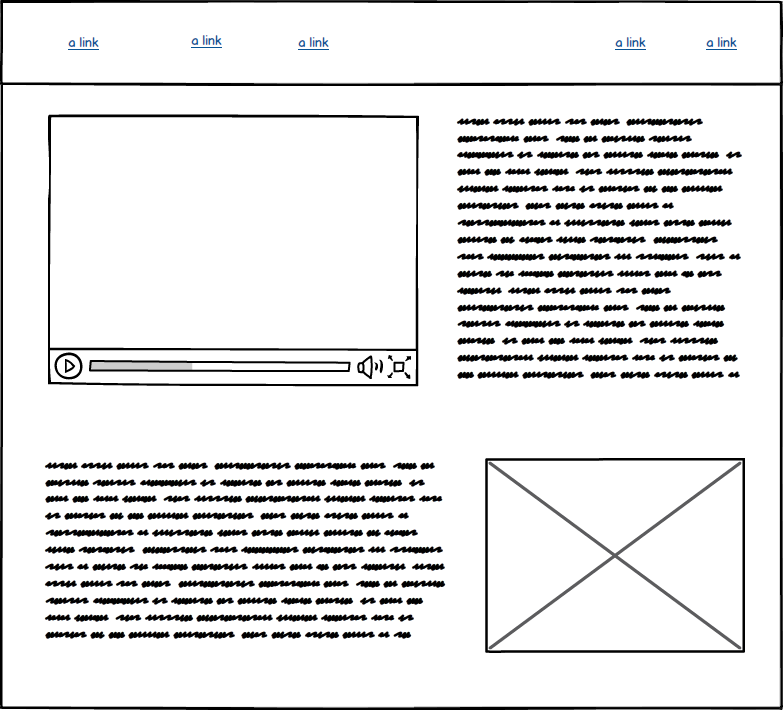image: (480, 455, 751, 658)
navlink: (607, 22, 655, 61), (181, 26, 232, 58), (287, 29, 339, 58), (60, 32, 116, 57), (703, 34, 746, 55)
p: (453, 107, 749, 385), (38, 458, 454, 645)
video: (41, 109, 425, 391)
